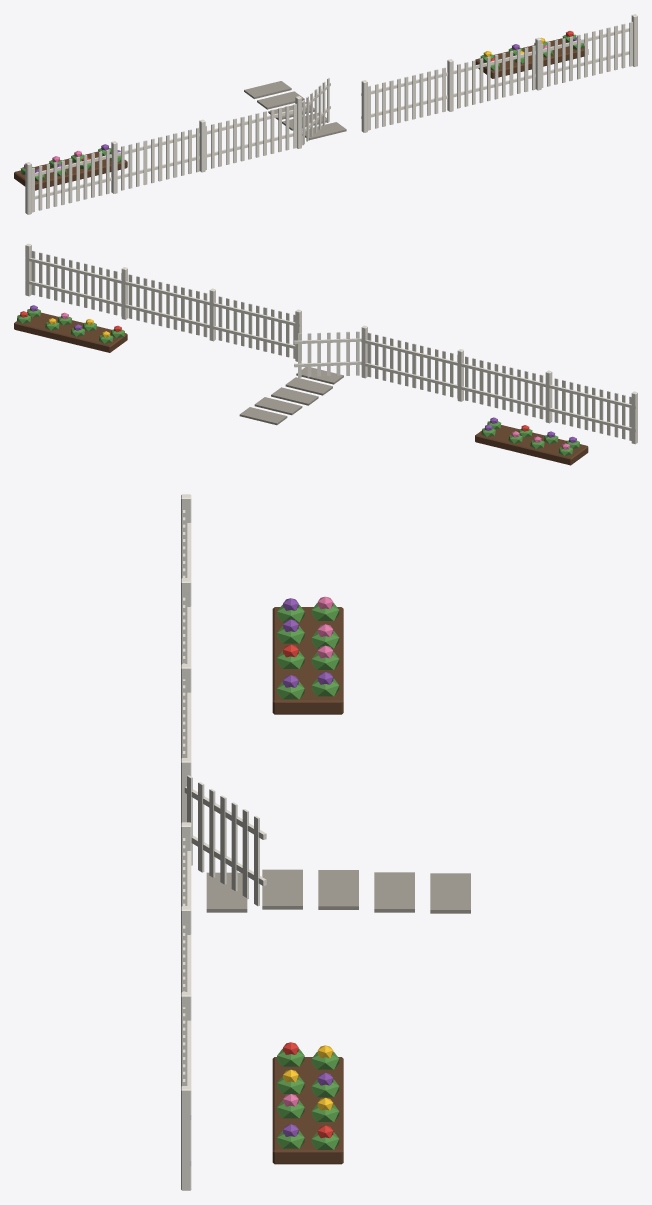
File: Yard_Picket_12.fbx
3 renders of one model, top to bottom at view 1: azimuth 30°, elevation 25°; view 2: azimuth 150°, elevation 25°; view 3: azimuth 270°, elevation 25°, orthographic. The views are drawn at different scales.
Parts seen in each view (by area): view 1: Yard_Picket_12; view 2: Yard_Picket_12; view 3: Yard_Picket_12.
Boxes of the visible parts, x1,y1,x2,y2 form: Yard_Picket_12: [14, 14, 637, 214]; Yard_Picket_12: [14, 243, 637, 465]; Yard_Picket_12: [181, 494, 470, 1190].
Size of the model in its own units: 13.87 by 1.1 by 2.85.
